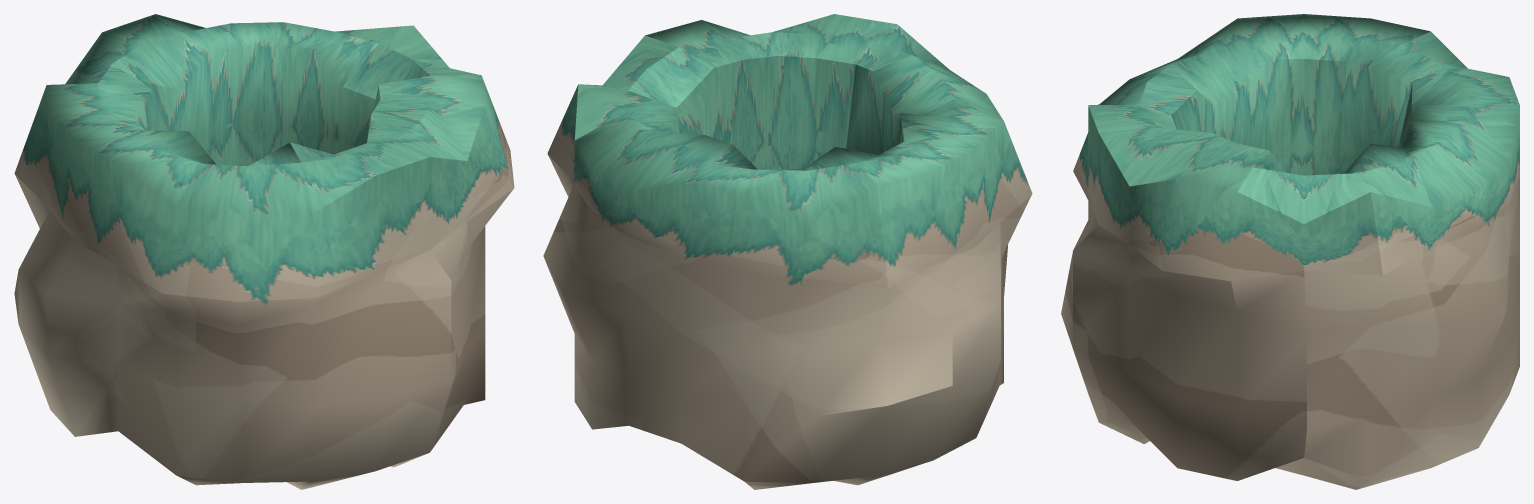
Rendered from Rock_Tube.fbx.
3 views of the same model, side by side, from view 1: azimuth 30°, elevation 25°; view 2: azimuth 150°, elevation 25°; view 3: azimuth 270°, elevation 25° (orthographic). The views are drawn at different scales.
Parts seen in each view (by area): view 1: pPipe1; view 2: pPipe1; view 3: pPipe1.
Part boxes in pixels (<box>): pPipe1: <box>14,14,514,489</box>; pPipe1: <box>543,14,1032,489</box>; pPipe1: <box>1061,14,1519,489</box>.
Bounding box in the file's own units: 28.63 × 20.62 × 26.71.
